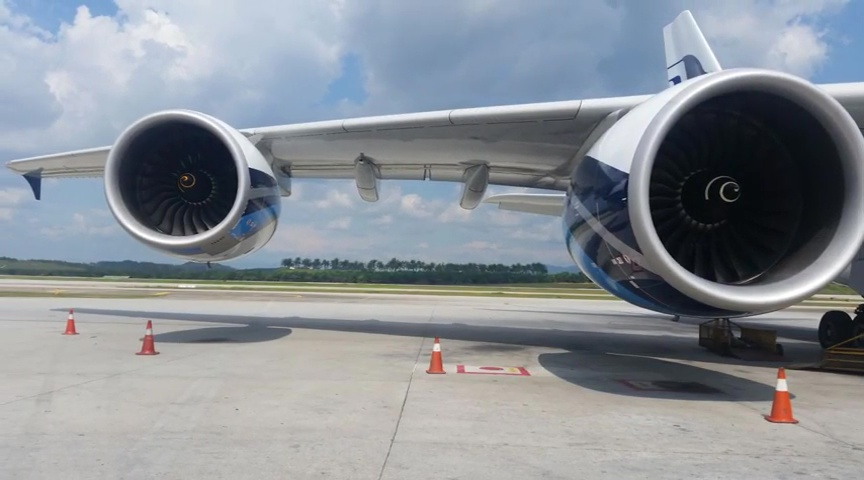safety_cone: (762, 366, 800, 426), (134, 319, 159, 356), (424, 335, 446, 375), (61, 308, 79, 336)
